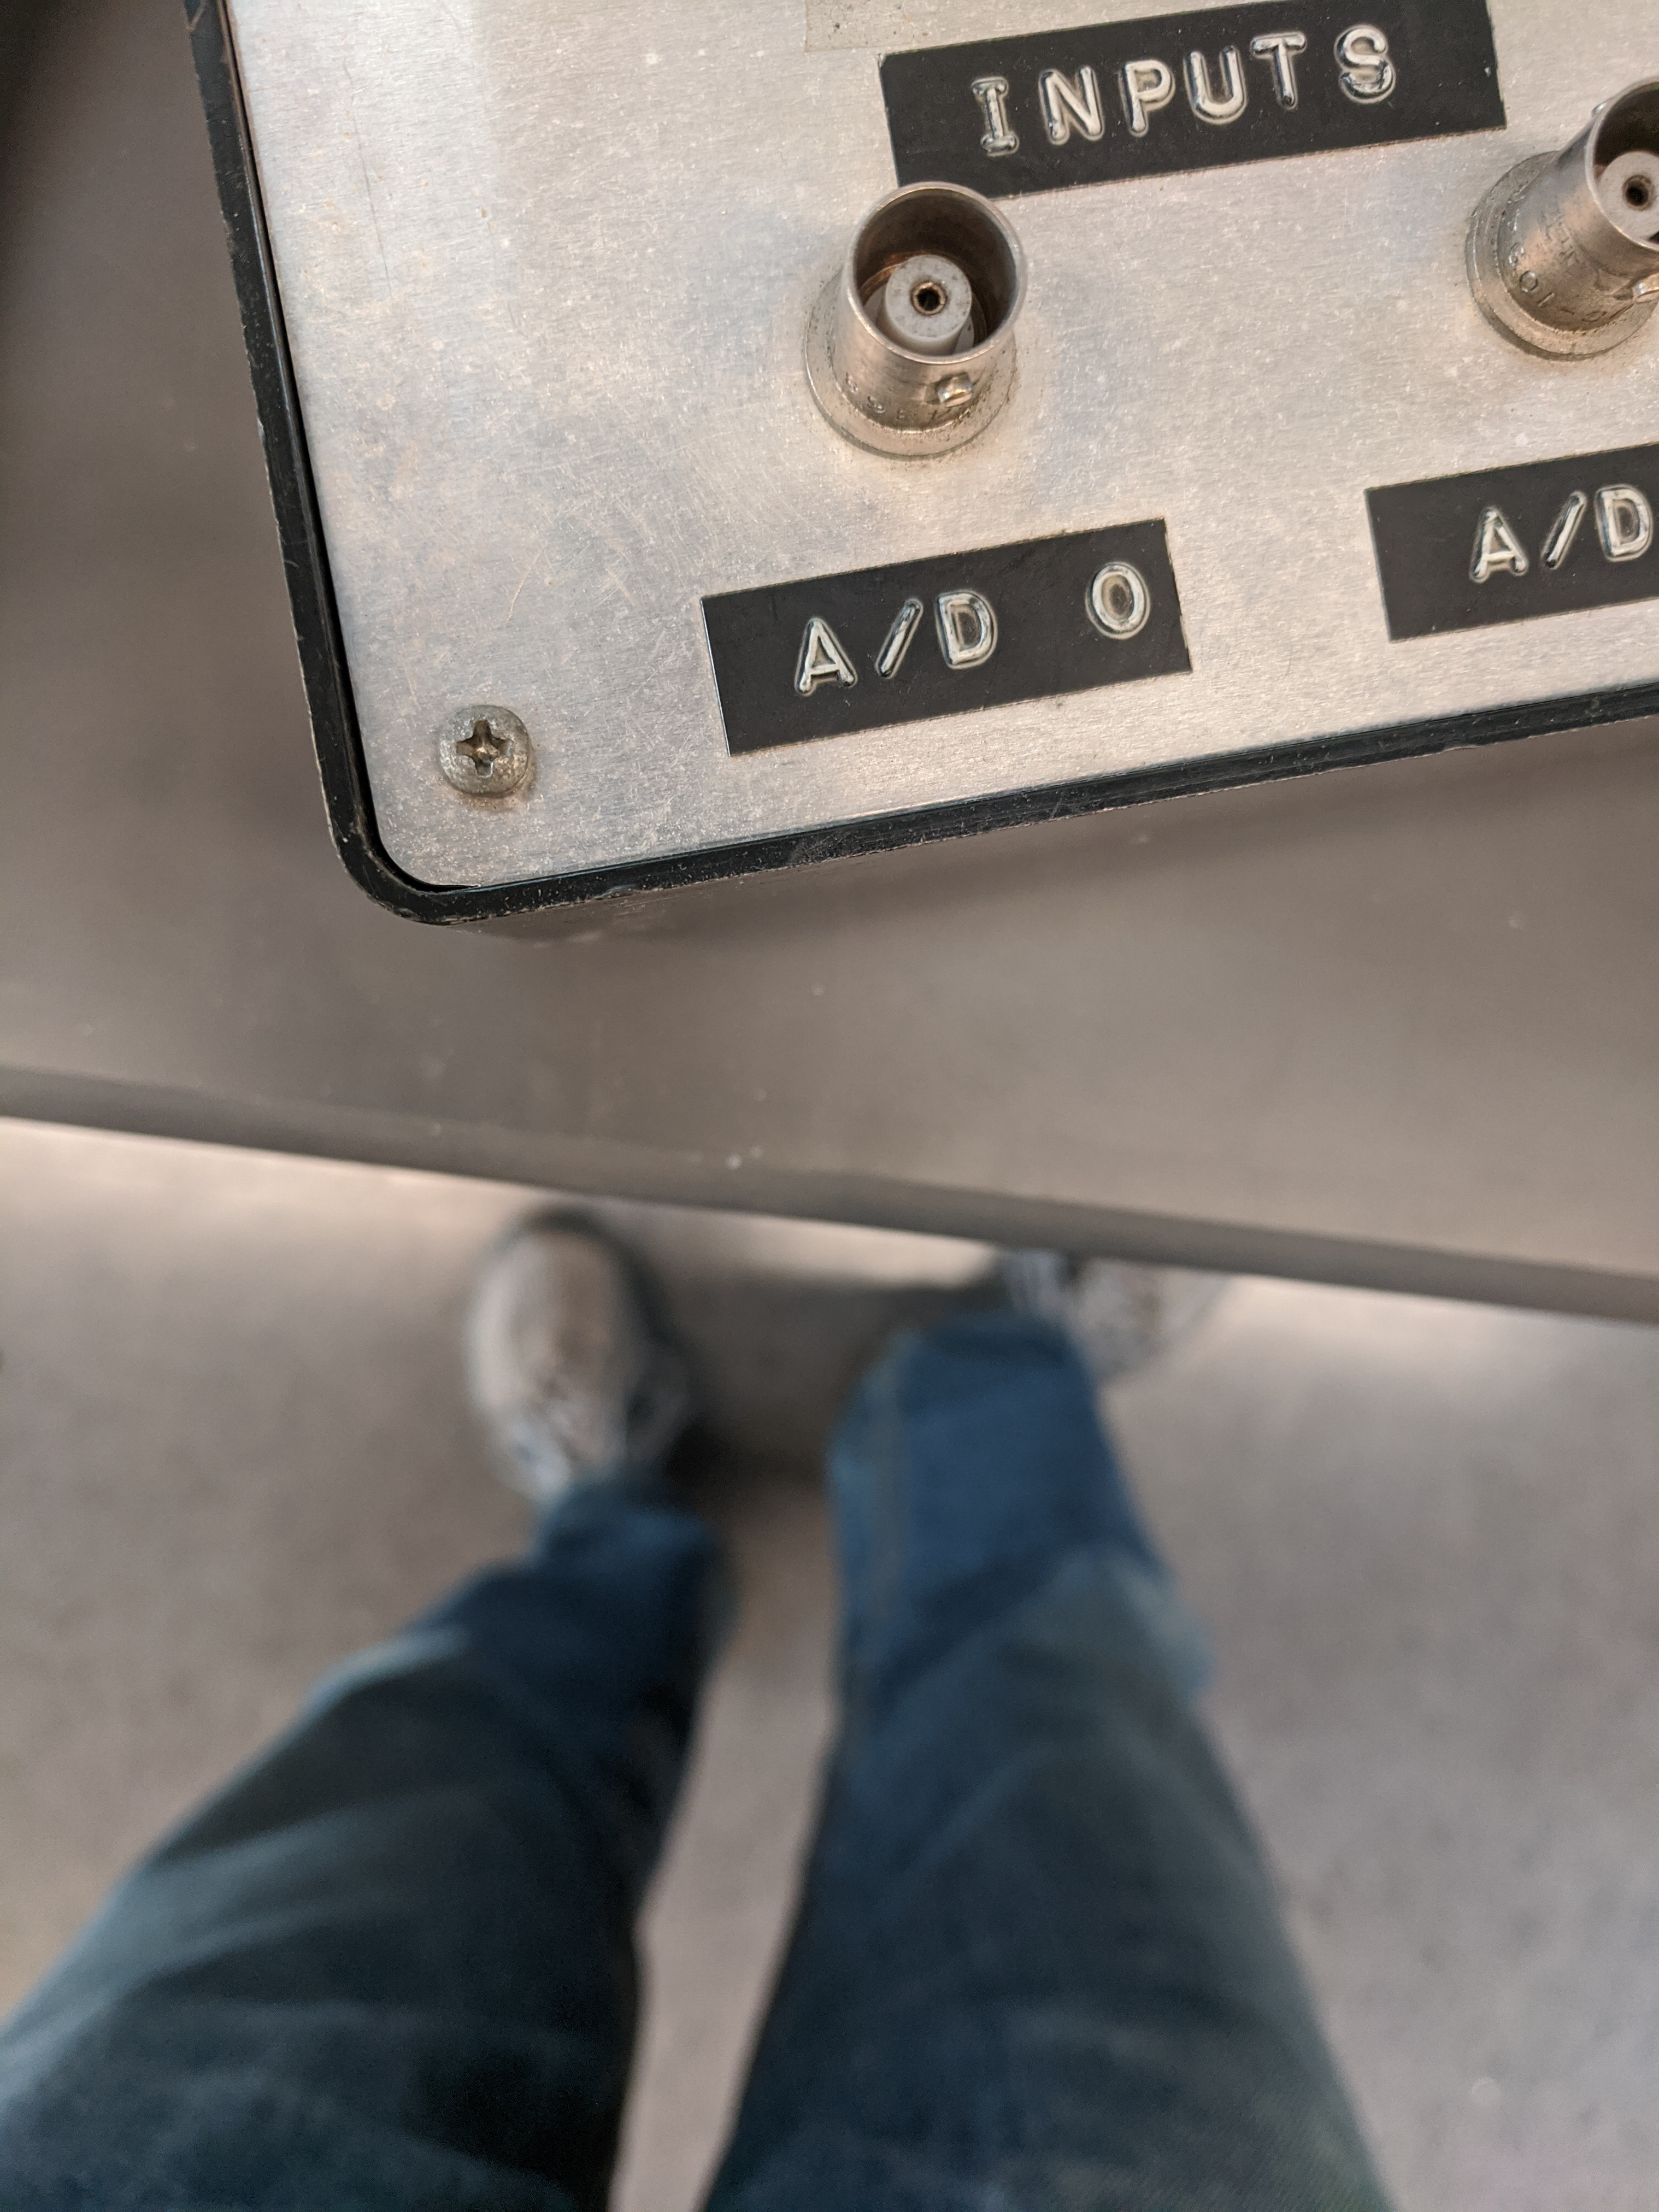cross_recessed_screw: (427, 685, 542, 805)
